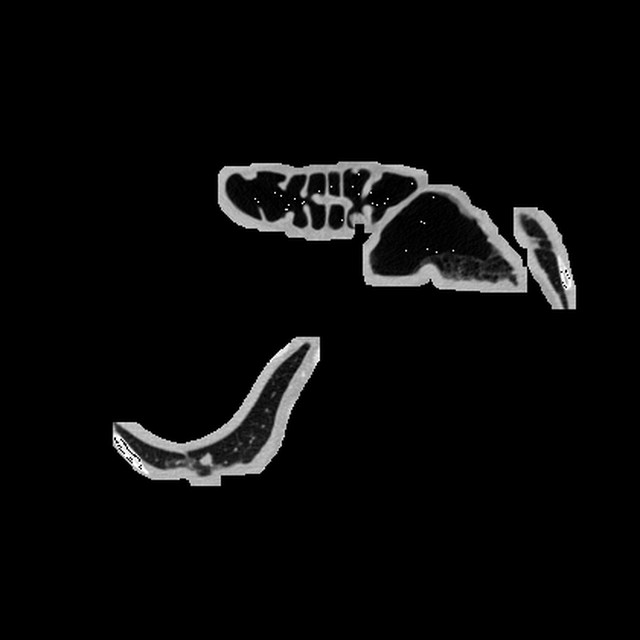PN: (200, 454, 212, 466)
